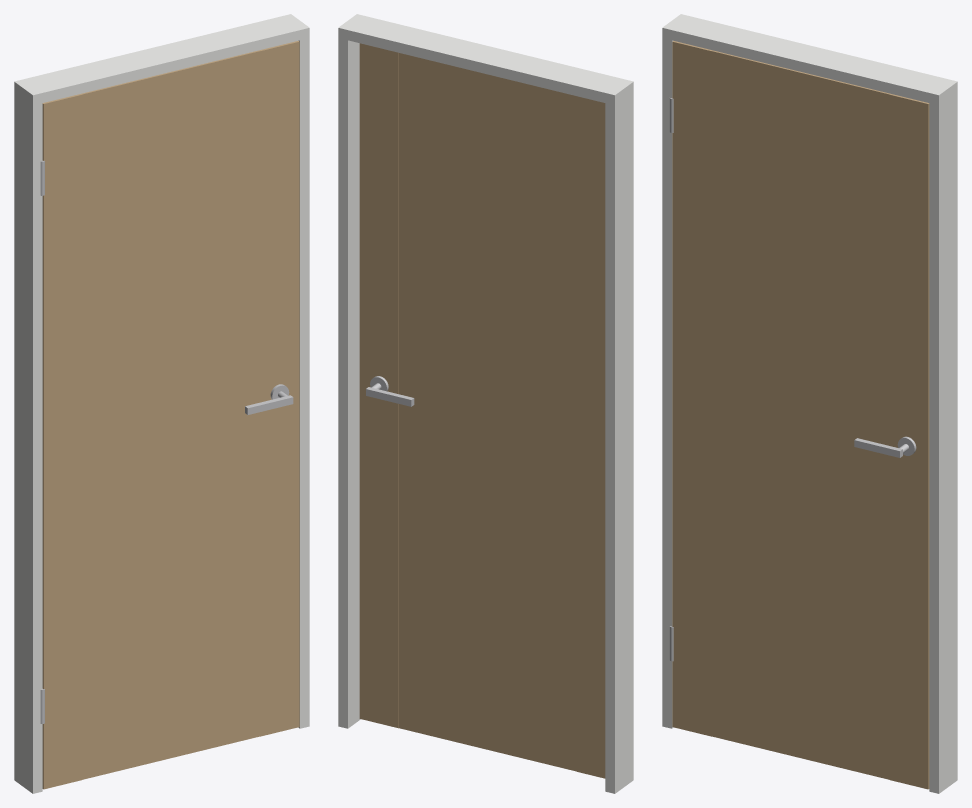
3 views of the same model, side by side, from view 1: azimuth 30°, elevation 25°; view 2: azimuth 150°, elevation 25°; view 3: azimuth 330°, elevation 25° (orthographic).
Visible parts, largest first — view 1: Leaf, Lining, StileHinge, StileLatch, RailBottom, RailMid, RailTop, HandleFront; view 2: Leaf, Lining, StileLatch, StileHinge, RailBottom, RailTop, RailMid, HandleBack; view 3: Leaf, Lining, StileLatch, StileHinge, RailBottom, RailMid, RailTop, HandleFront.
Boxes of the visible parts, x1,y1,x2,y2 form: Leaf: (42,41,295,788); Lining: (14,14,309,793); StileHinge: (42,94,82,789); StileLatch: (260,41,299,736); RailBottom: (82,662,260,778); RailMid: (82,357,260,440); RailTop: (46,41,298,134); HandleFront: (245,384,293,414); Leaf: (399,53,576,771); Lining: (338,14,633,793); StileLatch: (359,43,398,728); StileHinge: (576,96,605,778); RailBottom: (399,653,576,770); RailTop: (399,53,576,126); RailMid: (399,353,576,432); HandleBack: (366,376,414,406); Leaf: (674,41,929,779); Lining: (662,14,957,793); StileLatch: (889,94,929,789); StileHinge: (672,41,711,736); RailBottom: (711,661,889,779); RailMid: (711,357,889,440); RailTop: (673,41,926,134); HandleFront: (854,436,916,457).
Size of the model in its own units: 0.85 by 2.05 by 0.16.
